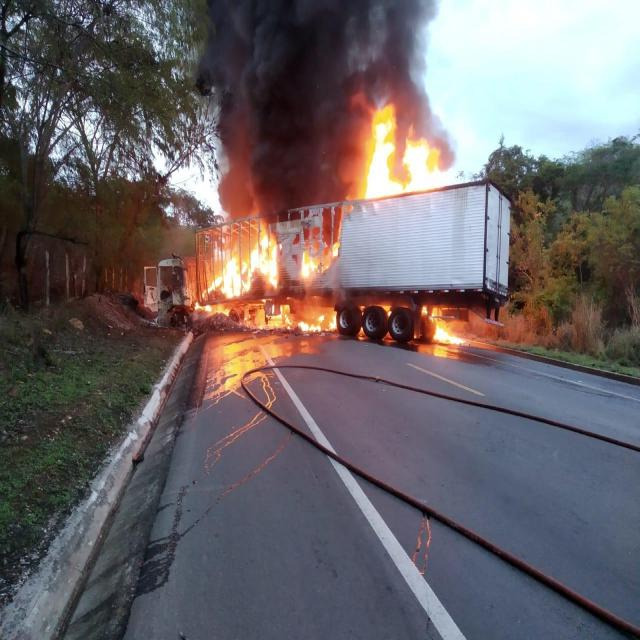fire: (190, 73, 487, 312)
